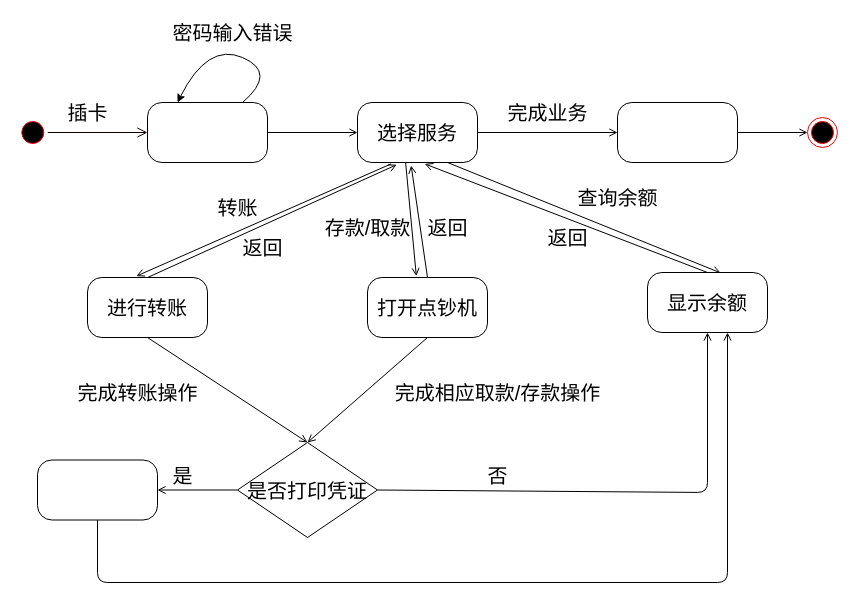
This 855x608 diagram has some shape labels left out. Each missing label, with the centre of its shape:
"打印凭证" goes at point 97,489.
"未登录" goes at point 207,132.
"退卡" goes at point 677,132.
